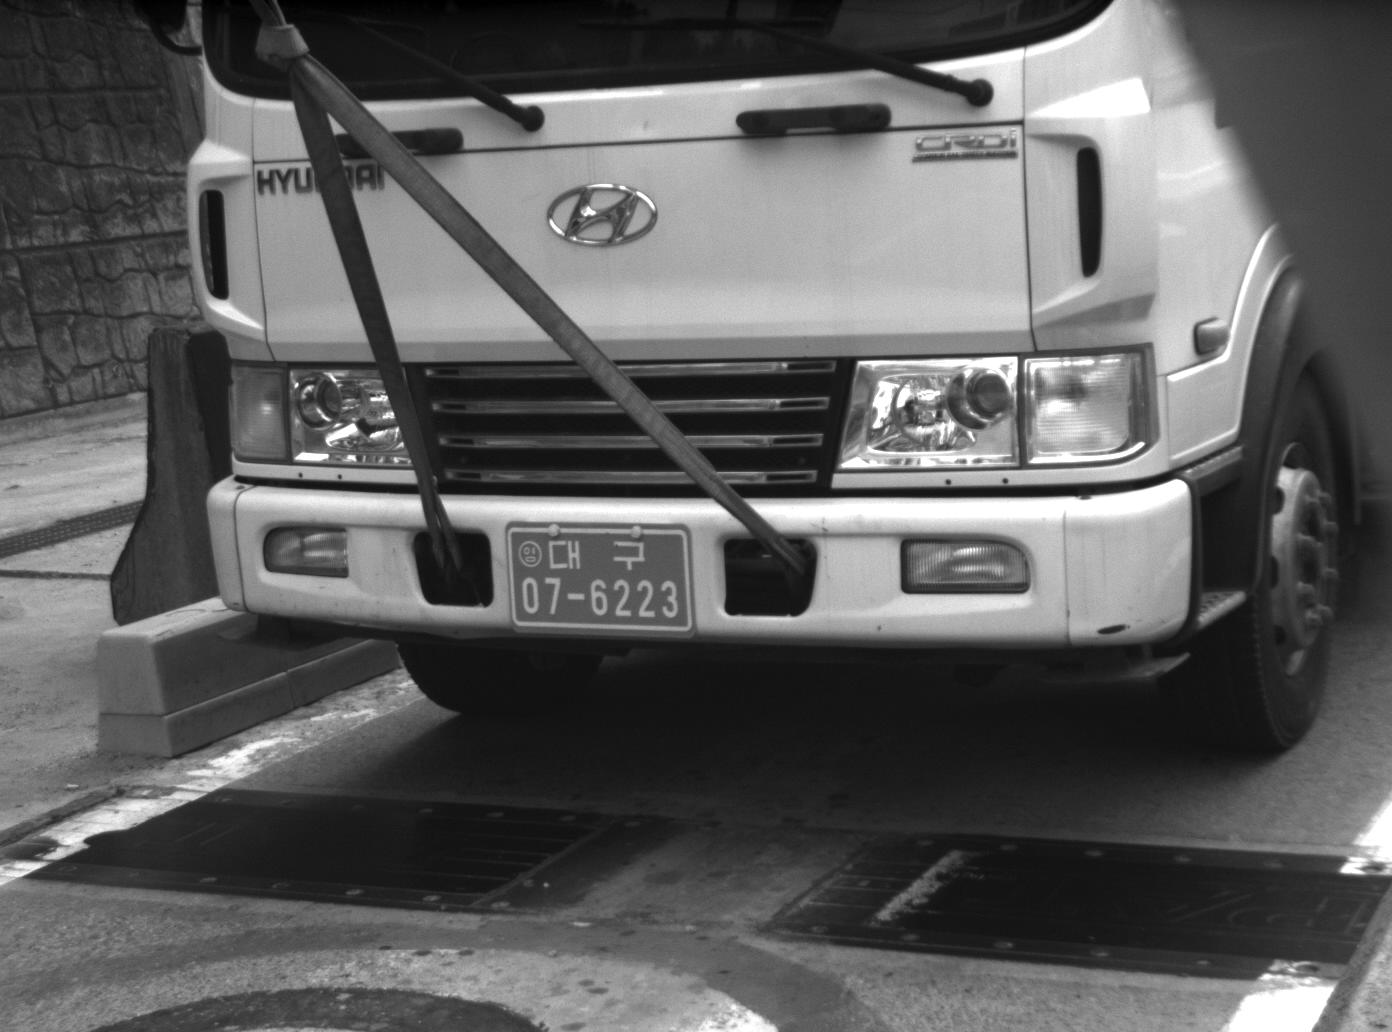car: (182, 1, 1388, 758)
plate: (501, 518, 702, 637)
